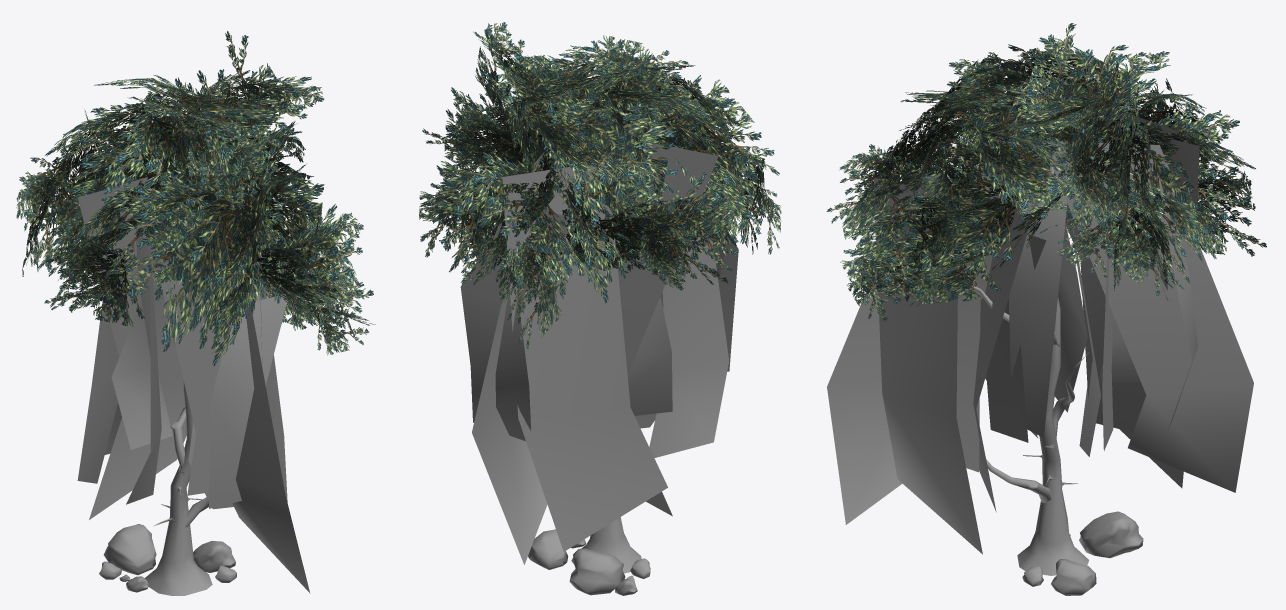
File: stortree_lod1.fbx
The picture shows the model from 3 angles, left to right: view 1: azimuth 30°, elevation 25°; view 2: azimuth 150°, elevation 25°; view 3: azimuth 270°, elevation 25°; orthographic projection. The views are drawn at different scales.
Visible parts, largest first — view 1: Default_Layer; view 2: Default_Layer; view 3: Default_Layer.
Part boxes in pixels (x1,y1,x2,y2): Default_Layer: (16,31,375,595); Default_Layer: (419,22,781,595); Default_Layer: (826,23,1266,595).
Size of the model in its own units: 867 by 1461 by 1061.
